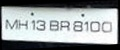character: (5, 18, 19, 29), (101, 21, 112, 33), (49, 20, 60, 31), (59, 20, 70, 31), (36, 19, 46, 31), (90, 20, 100, 32), (18, 19, 28, 30), (73, 21, 83, 32), (30, 19, 36, 31), (83, 21, 89, 32)
